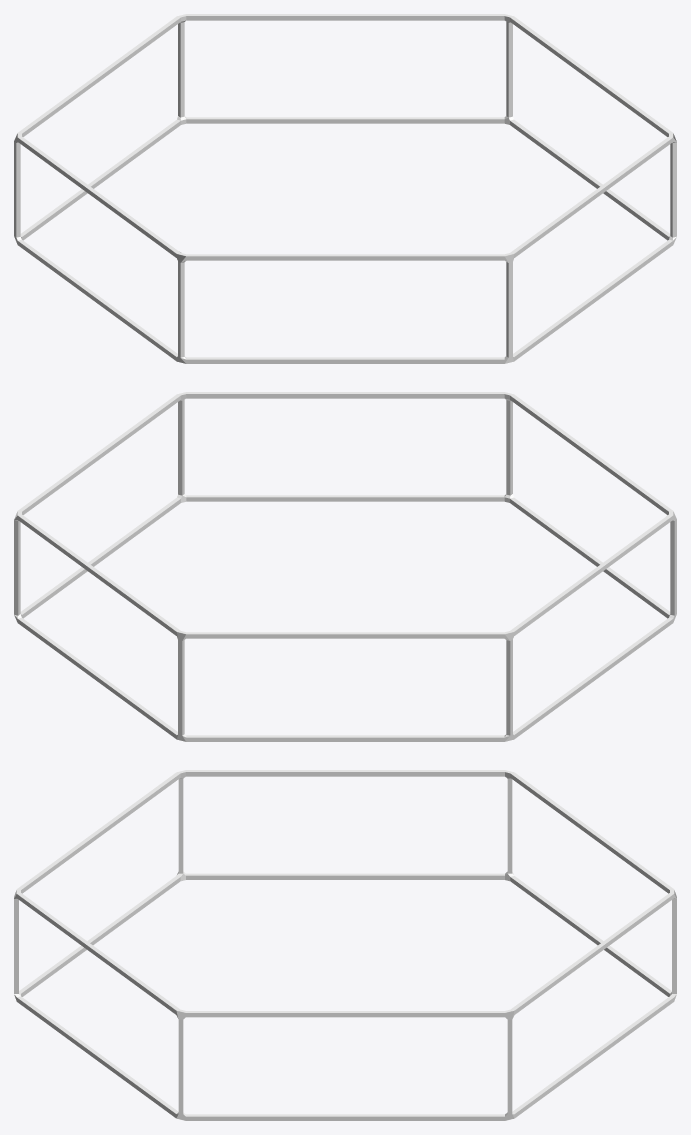
Rendered from SelectionWhite.fbx.
3 views of the same model, one above another, from view 1: azimuth 30°, elevation 25°; view 2: azimuth 150°, elevation 25°; view 3: azimuth 270°, elevation 25° (orthographic).
Parts seen in each view (by area): view 1: SelectionWhite; view 2: SelectionWhite; view 3: SelectionWhite.
Part boxes in pixels (x1,y1,x2,y2): SelectionWhite: (14, 14, 676, 363); SelectionWhite: (14, 392, 676, 741); SelectionWhite: (14, 770, 676, 1120).
Bounding box in the file's own units: 1.01 × 0.209 × 1.16.
